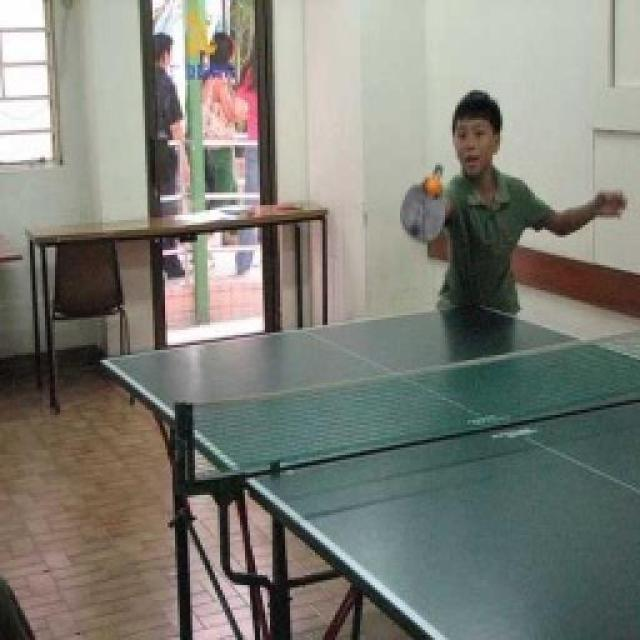oball: (426, 174, 440, 196)
